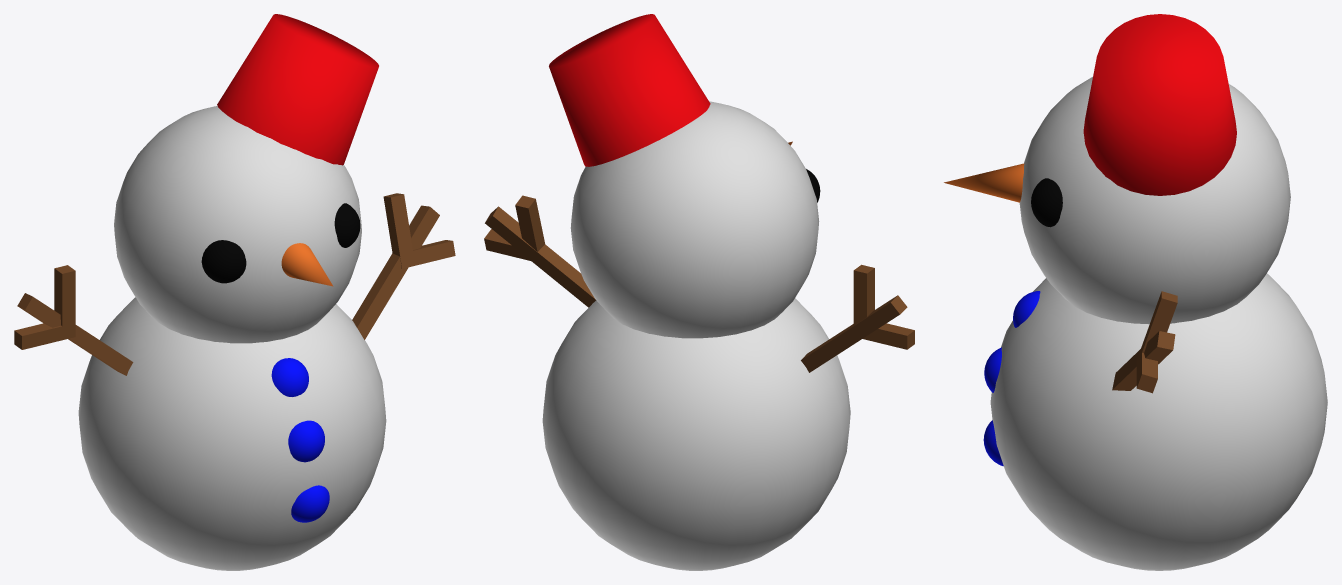
3 renders of one model, left to right at view 1: azimuth 30°, elevation 25°; view 2: azimuth 150°, elevation 25°; view 3: azimuth 270°, elevation 25°, orthographic. The views are drawn at different scales.
Parts seen in each view (by area): view 1: 球, 球.001, 円柱, 立方体.004, 立方体, 球.002, 円錐, 球.005, 球.006, 球.004, 球.003; view 2: 球, 球.001, 円柱, 立方体.004, 立方体; view 3: 球, 球.001, 円柱, 立方体.004, 円錐, 球.003, 球.006, 球.005.
Part boxes in pixels (x1,y1,x2,y2): 球: (78,297,386,570); 球.001: (114,106,361,343); 円柱: (217,14,378,165); 立方体.004: (352,193,455,339); 立方体: (14,265,133,375); 球.002: (201,240,246,283); 円錐: (281,243,333,286); 球.005: (288,420,324,462); 球.006: (271,358,308,396); 球.004: (291,485,329,522); 球.003: (334,203,360,247); 球: (542,298,850,570); 球.001: (570,101,819,338); 円柱: (549,14,710,166); 立方体.004: (484,195,595,307); 立方体: (801,264,914,372); 球: (990,273,1327,570); 球.001: (1019,77,1290,324); 円柱: (1083,14,1236,195); 立方体.004: (1112,291,1177,393); 円錐: (944,163,1024,202); 球.003: (1031,178,1062,227); 球.006: (1013,291,1040,327); 球.005: (984,347,1001,392).
Size of the model in its own units: 3.2 by 3.72 by 2.28.
